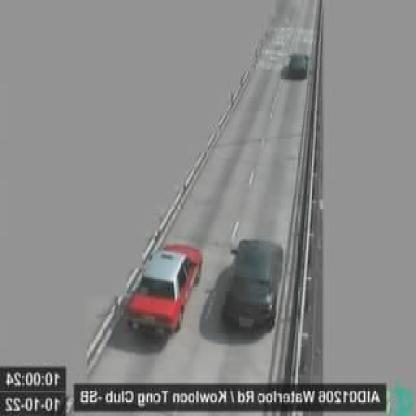Car: (124, 245, 204, 336), (222, 237, 284, 332), (288, 52, 308, 78)
